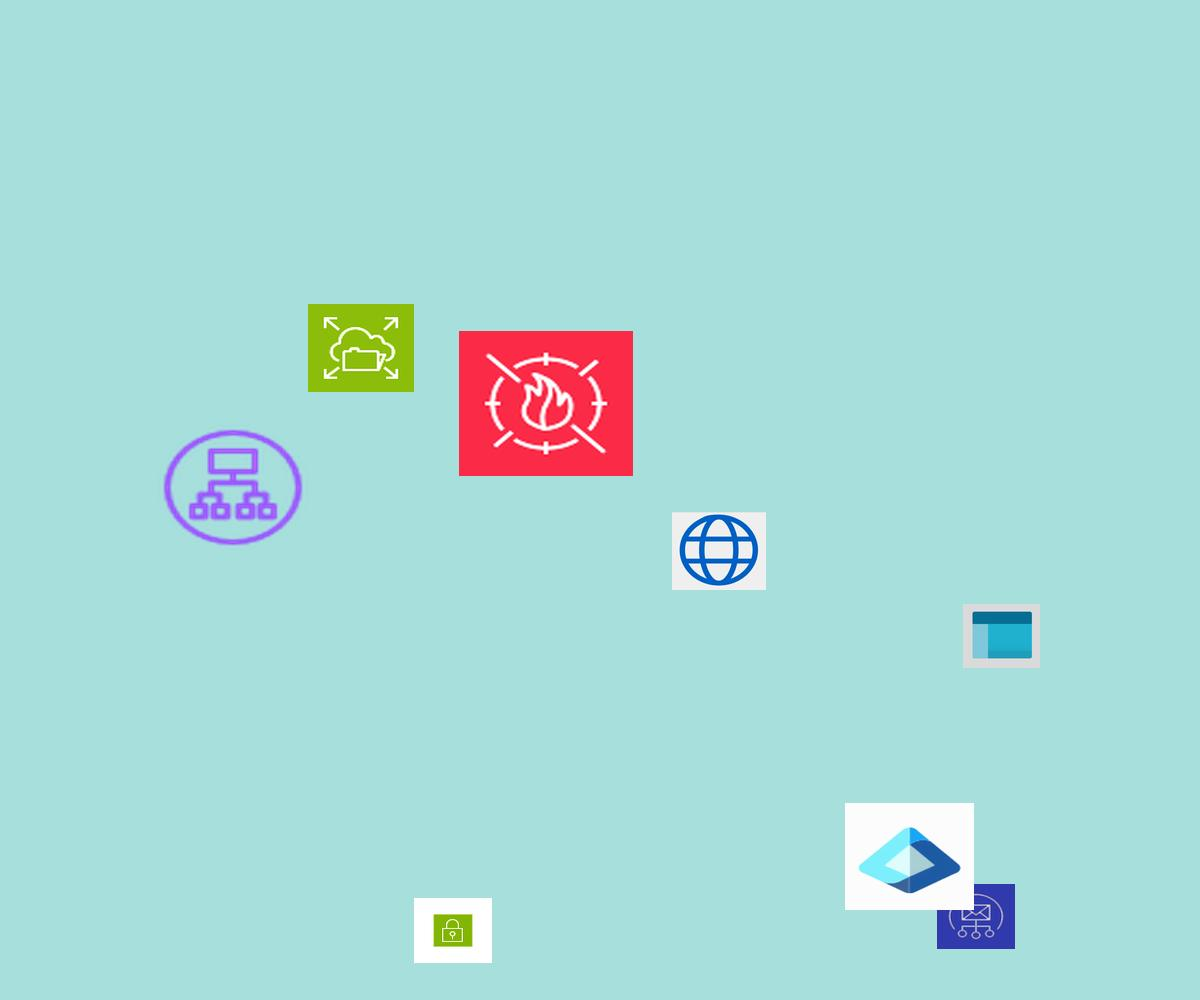AWS-EFS: (308, 304, 414, 392)
AWS-Public-subnet: (414, 898, 492, 963)
AWS-Res_Elastic-Load-Balancing_Application-Load-Balancer: (158, 425, 308, 550)
AWS-Simple-Email-Service: (937, 884, 1015, 949)
AWS-WAF: (459, 331, 633, 476)
Azure_http: (672, 512, 766, 590)
Azure_management-portal: (963, 604, 1040, 668)
Azure_microsoft_entra: (845, 803, 974, 910)
